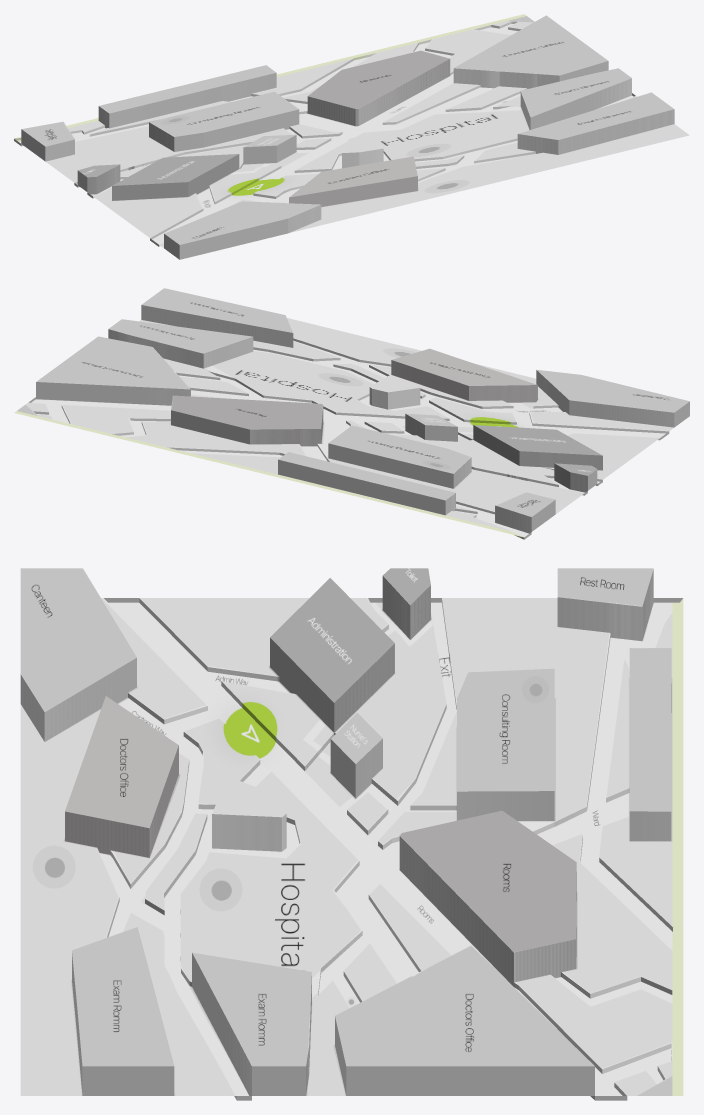
File: mapd2.glb
The picture shows the model from 3 angles, top to bottom: view 1: azimuth 30°, elevation 25°; view 2: azimuth 150°, elevation 25°; view 3: azimuth 270°, elevation 25°; orthographic projection. The views are drawn at different scales.
Parts seen in each view (by area): view 1: Screenshot (7491); view 2: Screenshot (7491); view 3: Screenshot (7491).
Part boxes in pixels (x1,y1,x2,y2): Screenshot (7491): [14, 14, 689, 259]; Screenshot (7491): [14, 288, 689, 539]; Screenshot (7491): [20, 568, 683, 1100].
Size of the model in its own units: 1.78 by 0.0573 by 1.
1 material, 1 textured.
